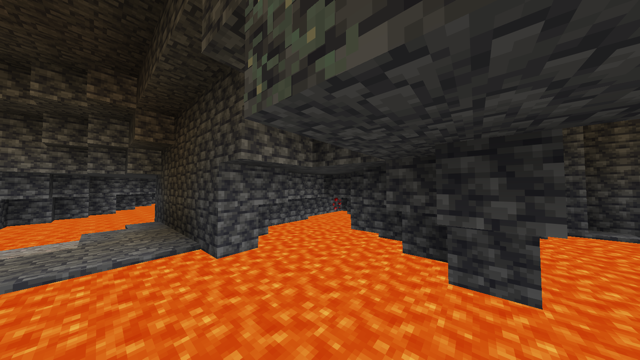redstone: (331, 197, 345, 212)
